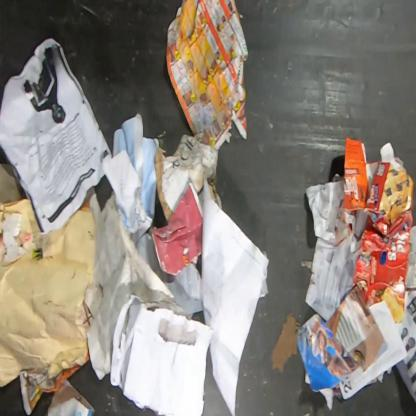cardboard: (348, 141, 414, 324), (154, 133, 223, 223), (148, 182, 203, 276), (44, 379, 96, 415), (0, 163, 28, 204)
